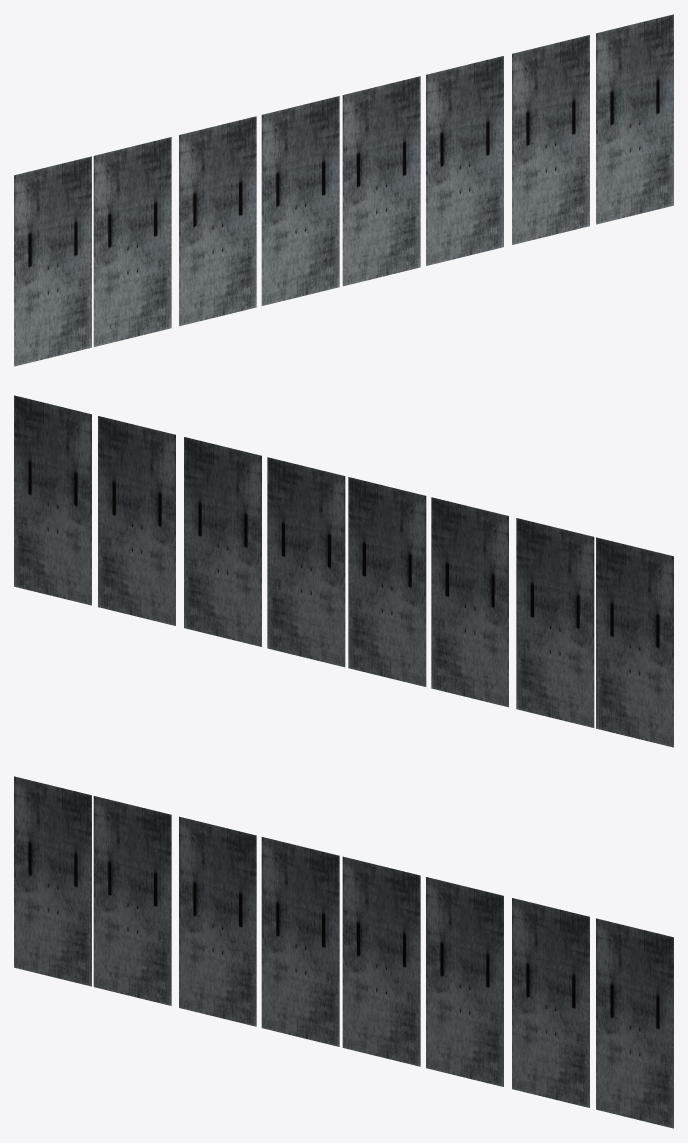
Rendered from store_21.obj.
3 views of the same model, one above another, from view 1: azimuth 30°, elevation 25°; view 2: azimuth 150°, elevation 25°; view 3: azimuth 330°, elevation 25° (orthographic).
Size of the model in its own units: 369 by 102 by 7.63e-06.
